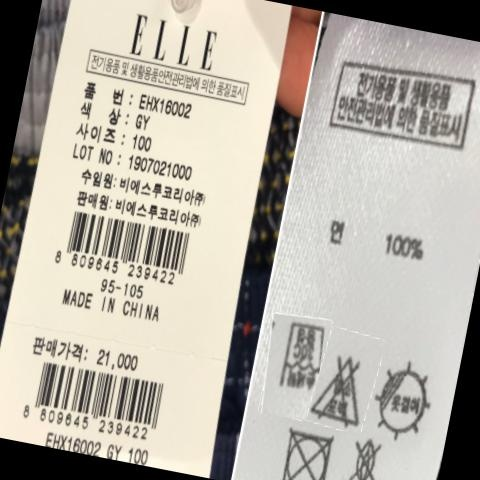DN_tumble_dry: (284, 431, 337, 480)
hand_wash: (281, 317, 327, 395)
line_dry_in_shade: (376, 364, 432, 439)
non_chlorine_bleach: (313, 349, 368, 425)
